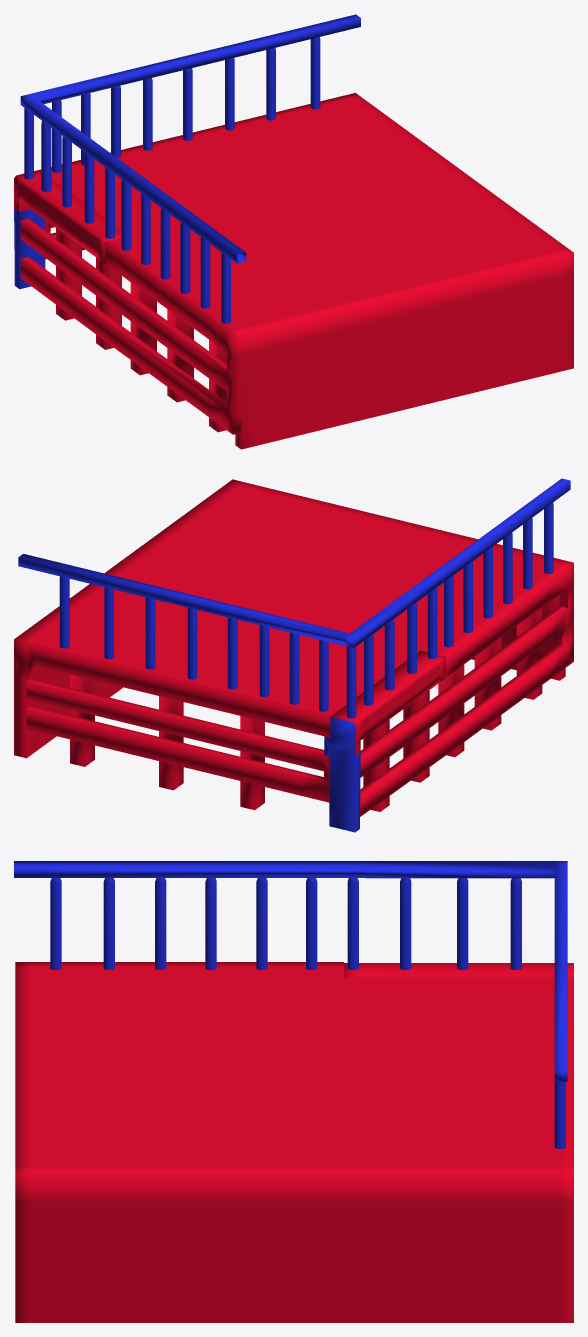
Rendered from PorchSealed.fbx.
3 views of the same model, one above another, from view 1: azimuth 30°, elevation 25°; view 2: azimuth 150°, elevation 25°; view 3: azimuth 270°, elevation 25° (orthographic). The views are drawn at different scales.
Parts seen in each view (by area): view 1: Cube.003; view 2: Cube.003; view 3: Cube.003.
Boxes of the visible parts, x1=… form: Cube.003: x1=14, y1=14, x2=573, y2=449; Cube.003: x1=14, y1=478, x2=573, y2=832; Cube.003: x1=14, y1=861, x2=573, y2=1322.
Bounding box in the file's own units: 489 × 271 × 543.
